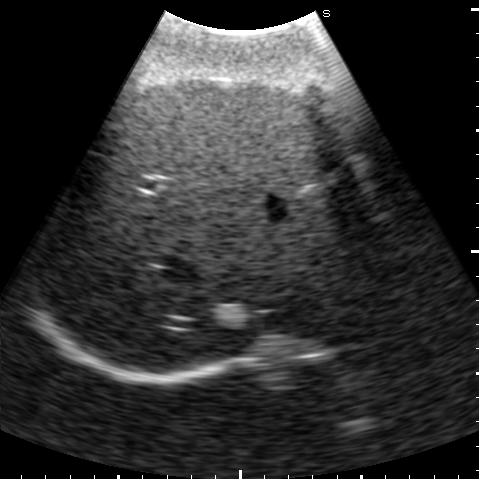S5: (117, 77, 340, 195)
S7: (34, 169, 178, 325)
S8: (111, 177, 380, 373)
Tumor: (214, 304, 248, 329)
